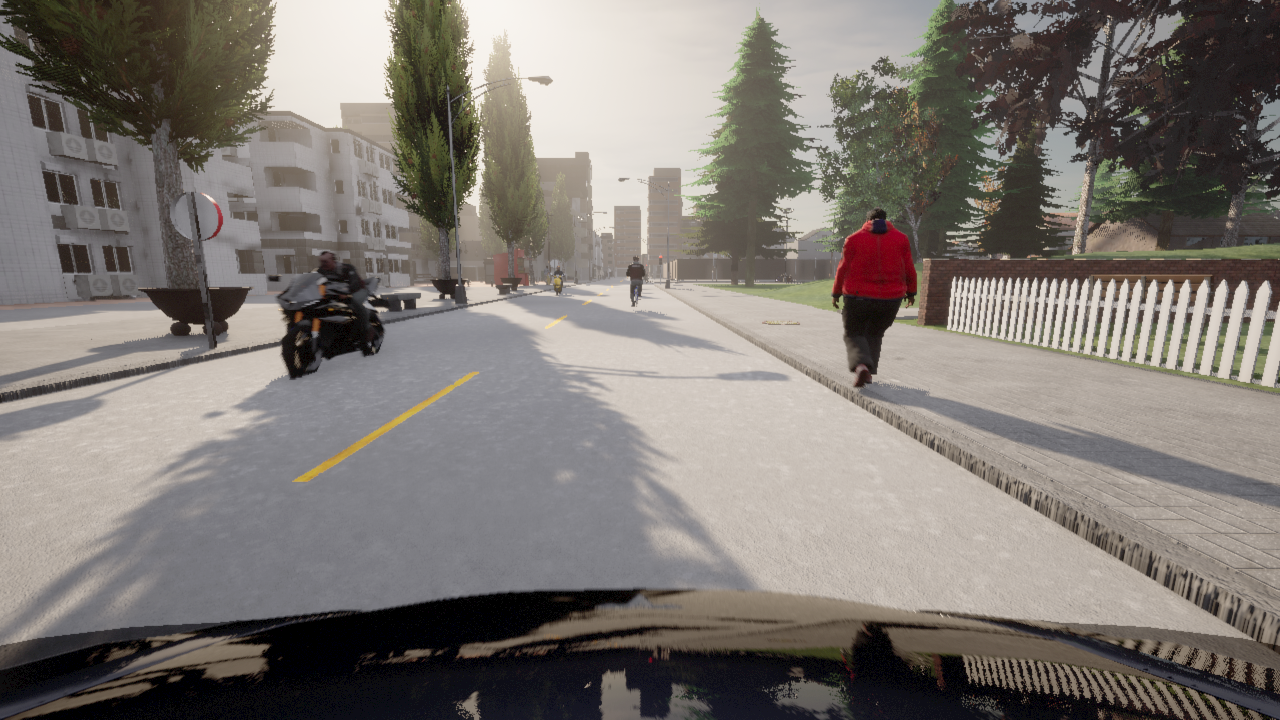cyclist: (0, 588, 1279, 719), (267, 271, 391, 378), (550, 273, 565, 294), (634, 286, 640, 311), (775, 275, 793, 282), (634, 291, 642, 293), (643, 279, 645, 283)
pedestrian: (831, 207, 916, 387), (544, 266, 549, 284), (547, 272, 550, 284)
